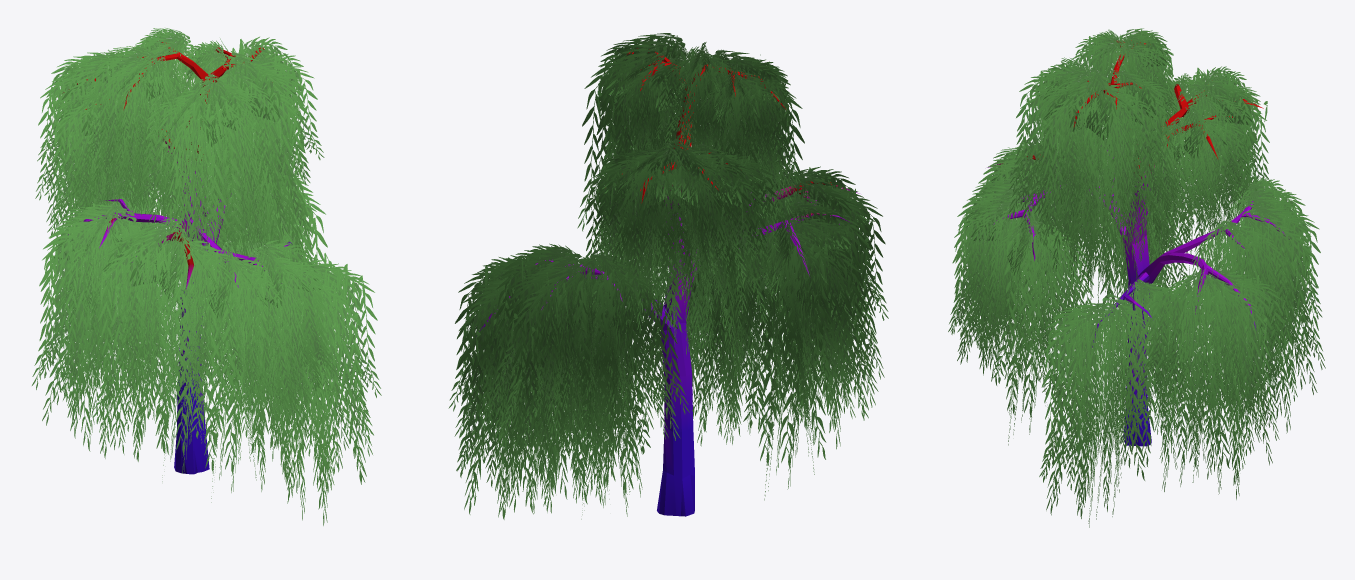
File: PT_Weeping_Willow_Tree_01_green_cut.fbx
3 views of the same model, side by side, from view 1: azimuth 30°, elevation 25°; view 2: azimuth 150°, elevation 25°; view 3: azimuth 270°, elevation 25° (orthographic). The views are drawn at different scales.
Visible parts, largest first — view 1: PT_Weeping_Willow_Tree_01_green_cut; view 2: PT_Weeping_Willow_Tree_01_green_cut; view 3: PT_Weeping_Willow_Tree_01_green_cut.
Boxes of the visible parts, x1,y1,x2,y2 form: PT_Weeping_Willow_Tree_01_green_cut: (32,28,381,525); PT_Weeping_Willow_Tree_01_green_cut: (448,33,888,519); PT_Weeping_Willow_Tree_01_green_cut: (948,28,1325,527).
Bounding box in the file's own units: 509 × 701 × 556.
